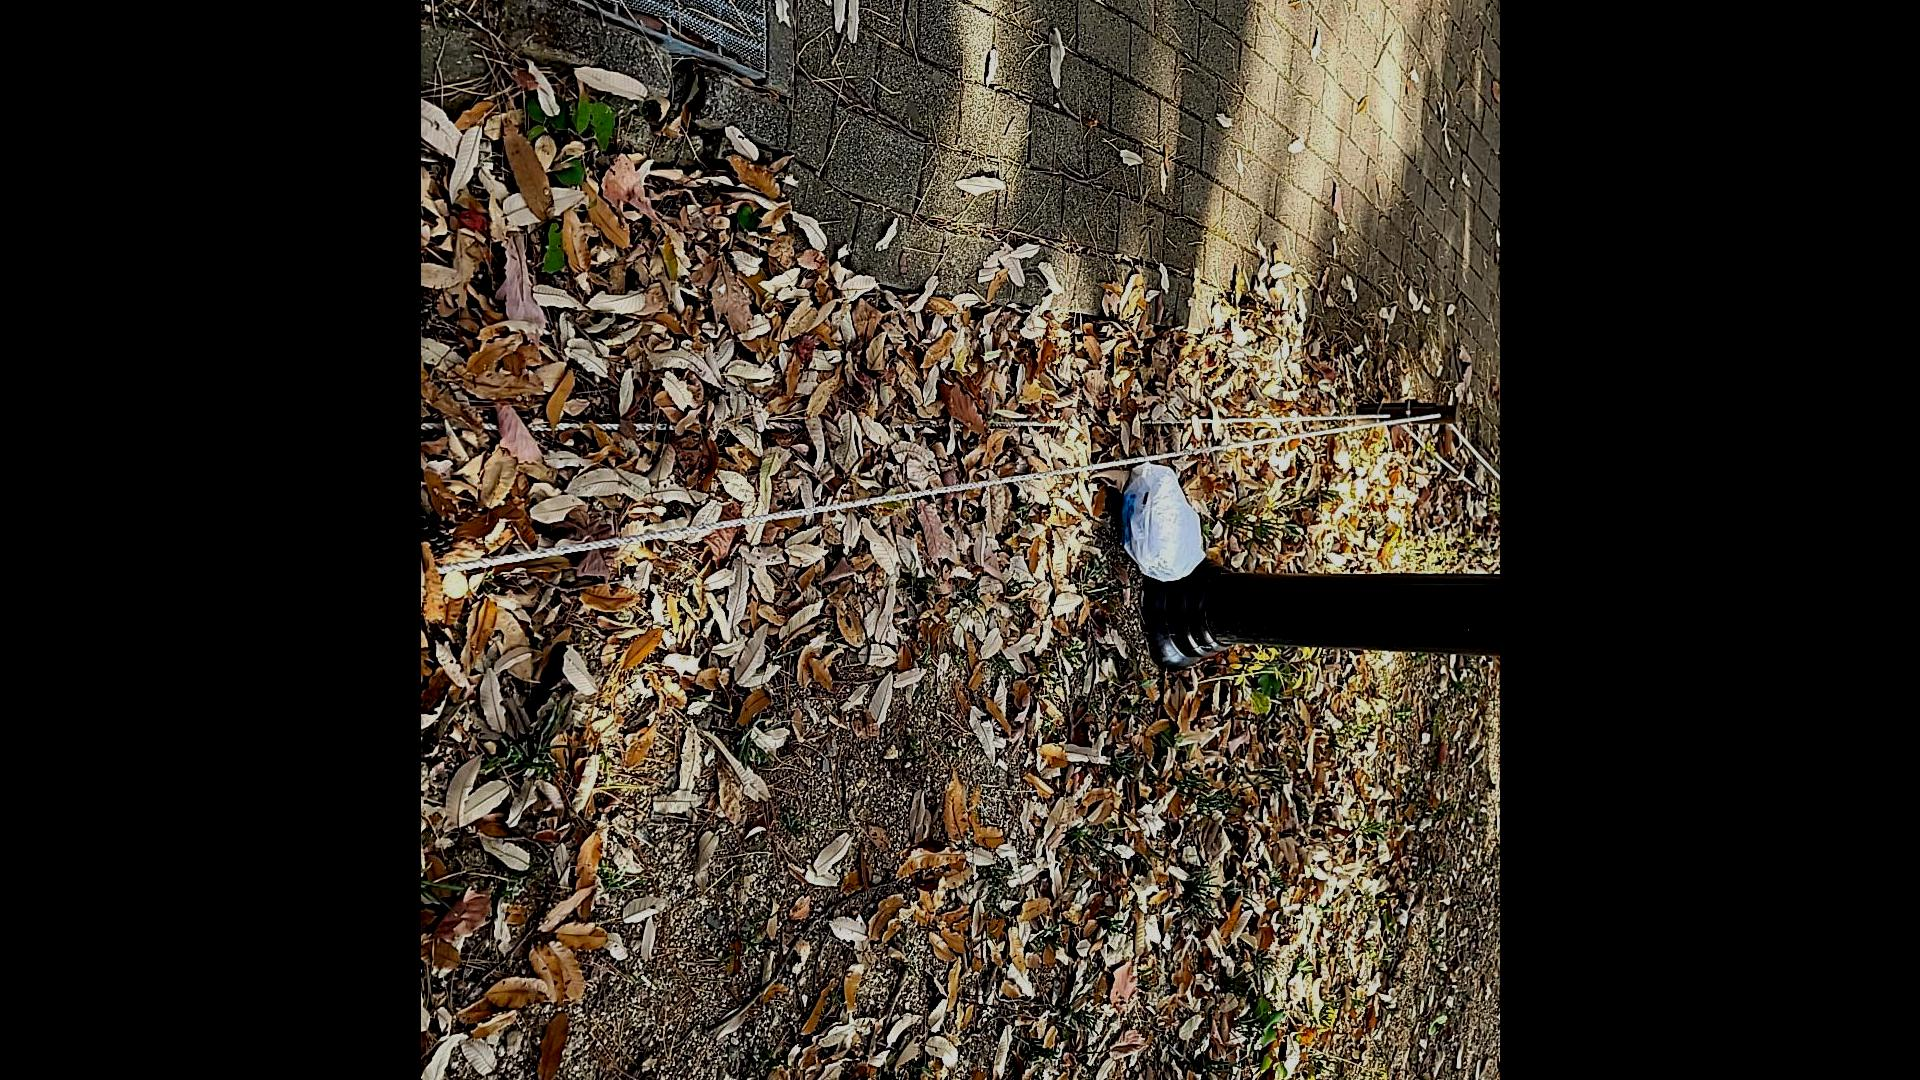white_bag: (1113, 454, 1212, 587)
